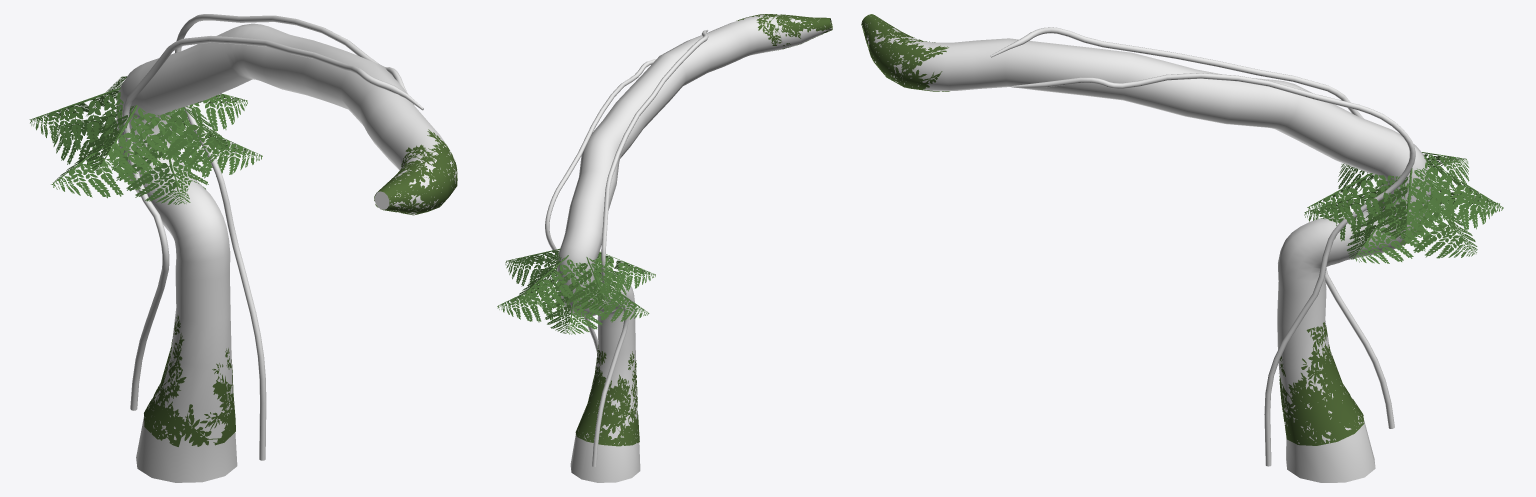
File: HouseVine3.fbx
3 renders of one model, left to right at view 1: azimuth 30°, elevation 25°; view 2: azimuth 150°, elevation 25°; view 3: azimuth 270°, elevation 25°, orthographic. The views are drawn at different scales.
Visible parts, largest first — view 1: HouseVine3, SmallHouseVine2, HouseVineDecal, SmallHouseVine1, HouseVineDecal1, LeafAlpha_4, LeafAlpha_0, LeafAlpha_3, LeafAlpha_3_2, LeafAlpha_4_2, LeafAlpha_2_2, LeafAlpha_2 (+1 smaller); view 2: HouseVine3, HouseVineDecal, SmallHouseVine2, LeafAlpha_0, LeafAlpha_1, LeafAlpha_0_2, HouseVineDecal1, SmallHouseVine1, LeafAlpha_4, LeafAlpha_2, LeafAlpha_1_2, LeafAlpha_4_2; view 3: HouseVine3, HouseVineDecal, SmallHouseVine1, SmallHouseVine2, HouseVineDecal1, LeafAlpha_2, LeafAlpha_3, LeafAlpha_2_2, LeafAlpha_1, LeafAlpha_1_2, LeafAlpha_3_2, LeafAlpha_0 (+1 smaller).
Part boxes in pixels (<box>): HouseVine3: <box>116,23,456,482</box>; SmallHouseVine2: <box>122,36,423,410</box>; HouseVineDecal: <box>144,315,235,446</box>; SmallHouseVine1: <box>175,14,407,460</box>; HouseVineDecal1: <box>374,129,457,215</box>; LeafAlpha_4: <box>85,103,182,174</box>; LeafAlpha_0: <box>29,87,131,150</box>; LeafAlpha_3: <box>130,106,234,165</box>; LeafAlpha_3_2: <box>112,125,208,204</box>; LeafAlpha_4_2: <box>51,130,160,198</box>; LeafAlpha_2_2: <box>160,116,262,178</box>; LeafAlpha_2: <box>169,93,247,133</box>; HouseVine3: <box>557,14,831,482</box>; HouseVineDecal: <box>575,345,639,446</box>; SmallHouseVine2: <box>592,30,708,466</box>; LeafAlpha_0: <box>555,257,621,310</box>; LeafAlpha_1: <box>515,255,588,308</box>; LeafAlpha_0_2: <box>543,284,609,334</box>; HouseVineDecal1: <box>736,14,832,50</box>; SmallHouseVine1: <box>545,59,655,354</box>; LeafAlpha_4: <box>584,251,655,291</box>; LeafAlpha_2: <box>505,248,561,287</box>; LeafAlpha_1_2: <box>497,278,572,322</box>; LeafAlpha_4_2: <box>573,275,649,322</box>; HouseVine3: <box>865,19,1430,482</box>; HouseVineDecal: <box>1279,322,1364,445</box>; SmallHouseVine1: <box>1011,73,1415,466</box>; SmallHouseVine2: <box>990,27,1394,428</box>; HouseVineDecal1: <box>861,14,949,91</box>; LeafAlpha_2: <box>1366,168,1452,239</box>; LeafAlpha_3: <box>1307,173,1405,225</box>; LeafAlpha_2_2: <box>1347,197,1434,263</box>; LeafAlpha_1: <box>1405,158,1503,221</box>; LeafAlpha_1_2: <box>1388,193,1477,258</box>; LeafAlpha_3_2: <box>1304,188,1390,241</box>; LeafAlpha_0: <box>1422,152,1469,193</box>.
Bounding box in the file's own units: 515 × 1095 × 1473.
